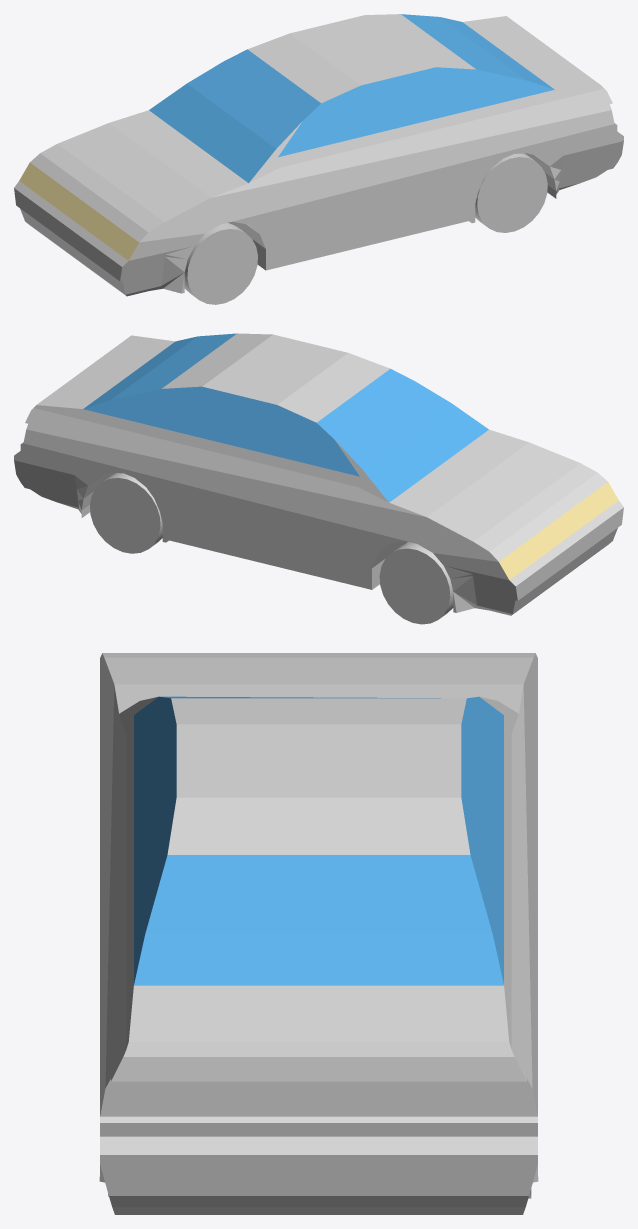
Rendered from car_placeholder.glb.
3 views of the same model, one above another, from view 1: azimuth 30°, elevation 25°; view 2: azimuth 150°, elevation 25°; view 3: azimuth 270°, elevation 25° (orthographic). The views are drawn at different scales.
Visible parts, largest first — view 1: body, wheel_fl, wheel_bl; view 2: body, wheel_fr, wheel_br; view 3: body.
Boxes of the visible parts, left/top/right/bottom form: body: left=14, top=14, right=623, bottom=296; wheel_fl: left=184, top=223, right=257, bottom=304; wheel_bl: left=475, top=153, right=547, bottom=232; body: left=14, top=333, right=623, bottom=615; wheel_fr: left=379, top=542, right=453, bottom=624; wheel_br: left=90, top=473, right=162, bottom=553; body: left=99, top=653, right=538, bottom=1214.
Bounding box in the file's own units: 4.6 × 1.47 × 1.74.
